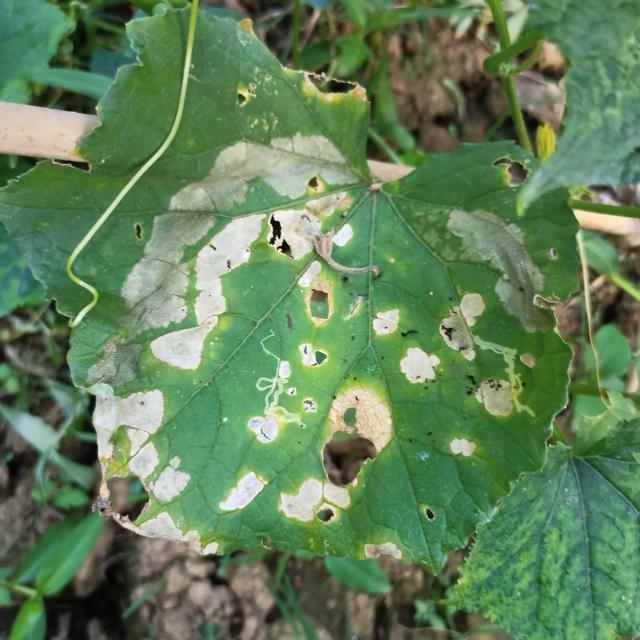disease_cucumber: (86, 373, 413, 563), (109, 130, 363, 371), (367, 195, 563, 466)
